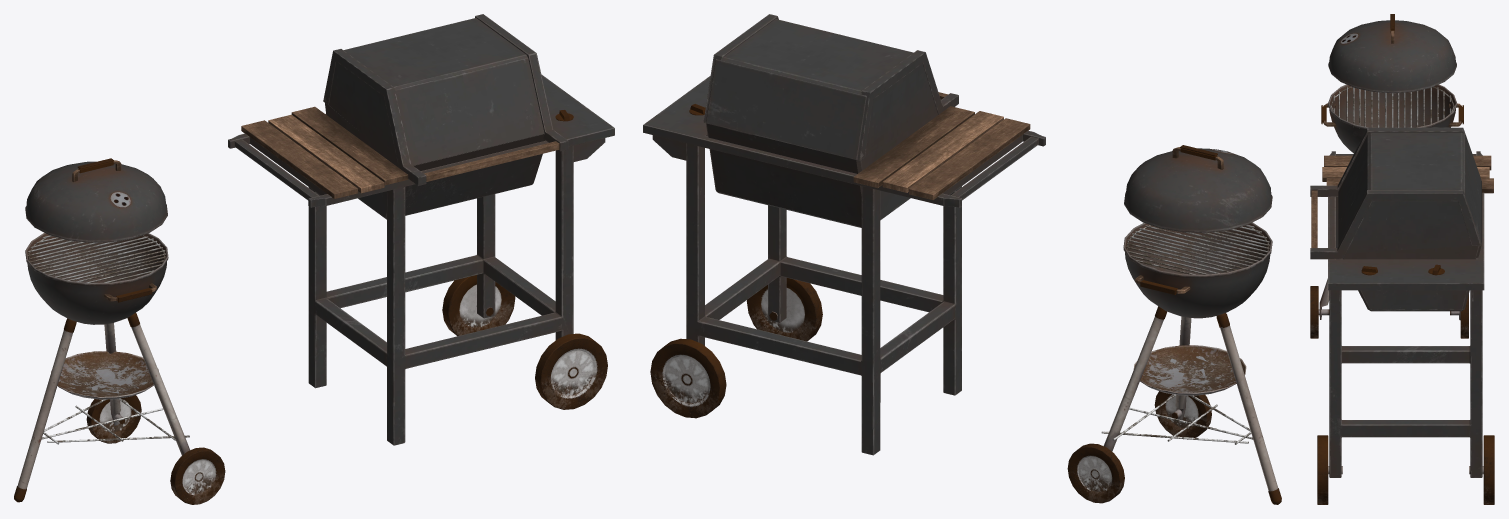
The model's file is barbecue_4.glb.
3 views of the same model, side by side, from view 1: azimuth 30°, elevation 25°; view 2: azimuth 150°, elevation 25°; view 3: azimuth 270°, elevation 25° (orthographic). The views are drawn at different scales.
Visible parts, largest first — view 1: pCube17_Black_Metal_2_0, polySurface1_Black_Metal_0, pSphere5_Plastic_0, polySurface4_Wood_0, pSphere5_Chrome_0, pCylinder15_Grill_Metal_0; view 2: pCube17_Black_Metal_2_0, polySurface1_Black_Metal_0, pSphere5_Plastic_0, polySurface4_Wood_0, pSphere5_Chrome_0, pCylinder15_Grill_Metal_0; view 3: pCube17_Black_Metal_2_0, polySurface1_Black_Metal_0, pSphere5_Plastic_0, polySurface4_Wood_0, pCylinder15_Grill_Metal_0, pSphere5_Chrome_0.
Boxes of the visible parts, x1=… form: pCube17_Black_Metal_2_0: x1=228, y1=14, x2=614, y2=445; polySurface1_Black_Metal_0: x1=25, y1=161, x2=168, y2=324; pSphere5_Plastic_0: x1=14, y1=110, x2=607, y2=504; polySurface4_Wood_0: x1=44, y1=106, x2=559, y2=301; pSphere5_Chrome_0: x1=17, y1=192, x2=189, y2=489; pCylinder15_Grill_Metal_0: x1=27, y1=235, x2=189, y2=444; pCube17_Black_Metal_2_0: x1=643, y1=14, x2=1045, y2=455; polySurface1_Black_Metal_0: x1=1123, y1=148, x2=1272, y2=318; pSphere5_Plastic_0: x1=650, y1=104, x2=1281, y2=504; polySurface4_Wood_0: x1=853, y1=92, x2=1252, y2=293; pSphere5_Chrome_0: x1=1103, y1=149, x2=1277, y2=491; pCylinder15_Grill_Metal_0: x1=1101, y1=225, x2=1269, y2=444; pCube17_Black_Metal_2_0: x1=1310, y1=127, x2=1484, y2=477; polySurface1_Black_Metal_0: x1=1328, y1=20, x2=1457, y2=153; pSphere5_Plastic_0: x1=1310, y1=14, x2=1494, y2=504; polySurface4_Wood_0: x1=1311, y1=30, x2=1493, y2=247; pCylinder15_Grill_Metal_0: x1=1330, y1=86, x2=1454, y2=128; pSphere5_Chrome_0: x1=1319, y1=33, x2=1460, y2=320.
Bounding box in the file's own units: 23.76 × 13.64 × 7.51.
6 materials, 6 textured.
